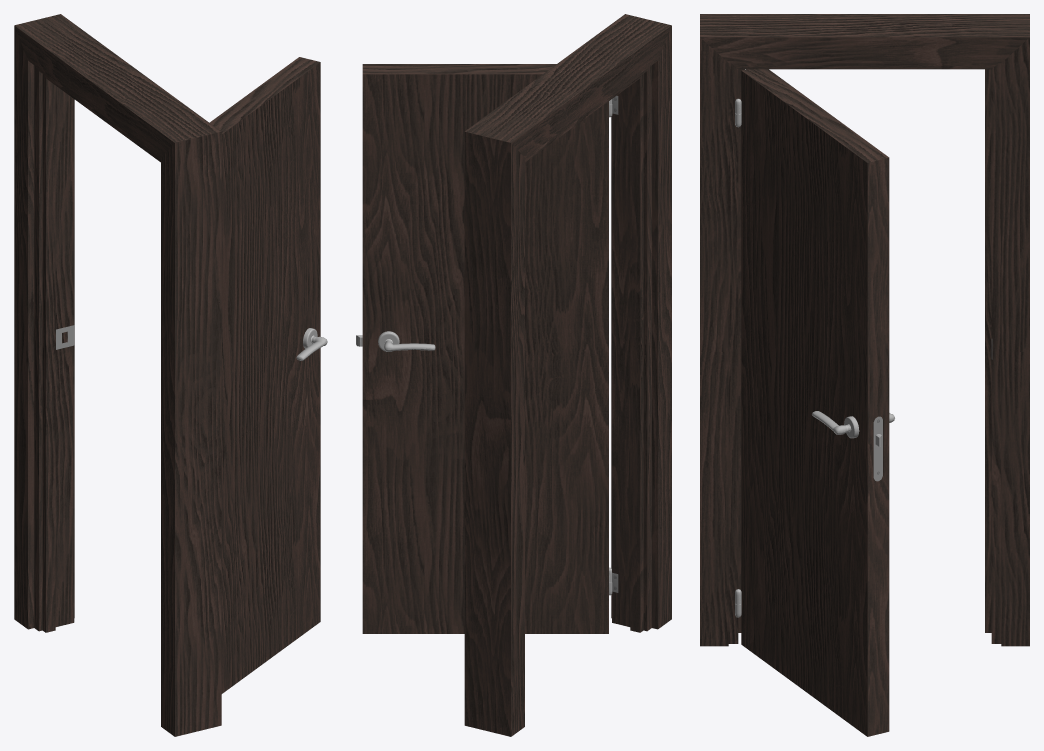
File: door-B5Iil2Tl.glb
3 views of the same model, side by side, from view 1: azimuth 30°, elevation 25°; view 2: azimuth 150°, elevation 25°; view 3: azimuth 270°, elevation 25° (orthographic). The views are drawn at different scales.
Parts seen in each view (by area): view 1: D2-Preview; view 2: D2-Preview; view 3: D2-Preview.
Boxes of the visible parts, x1,y1,x2,y2 form: D2-Preview: (14, 14, 327, 736); D2-Preview: (356, 14, 671, 736); D2-Preview: (700, 14, 1029, 736).
Bounding box in the file's own units: 1.92 × 4.77 × 2.34.
Materials: 1 (1 with a texture image).
